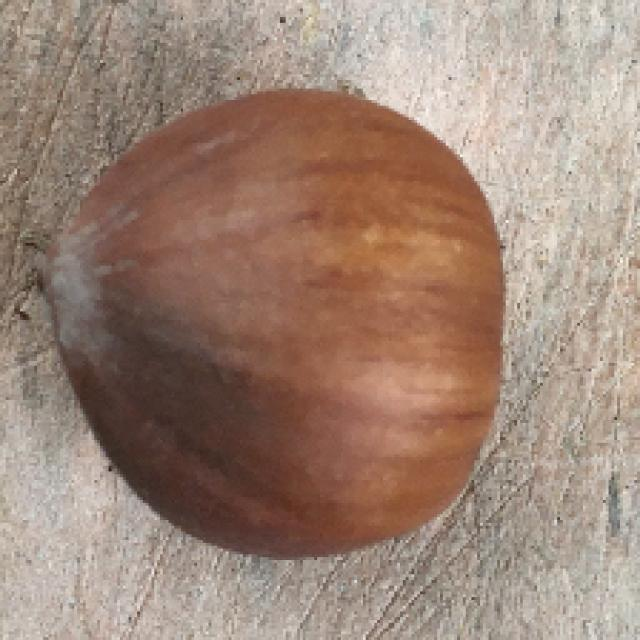qualityHazelnut: (50, 80, 504, 560)
